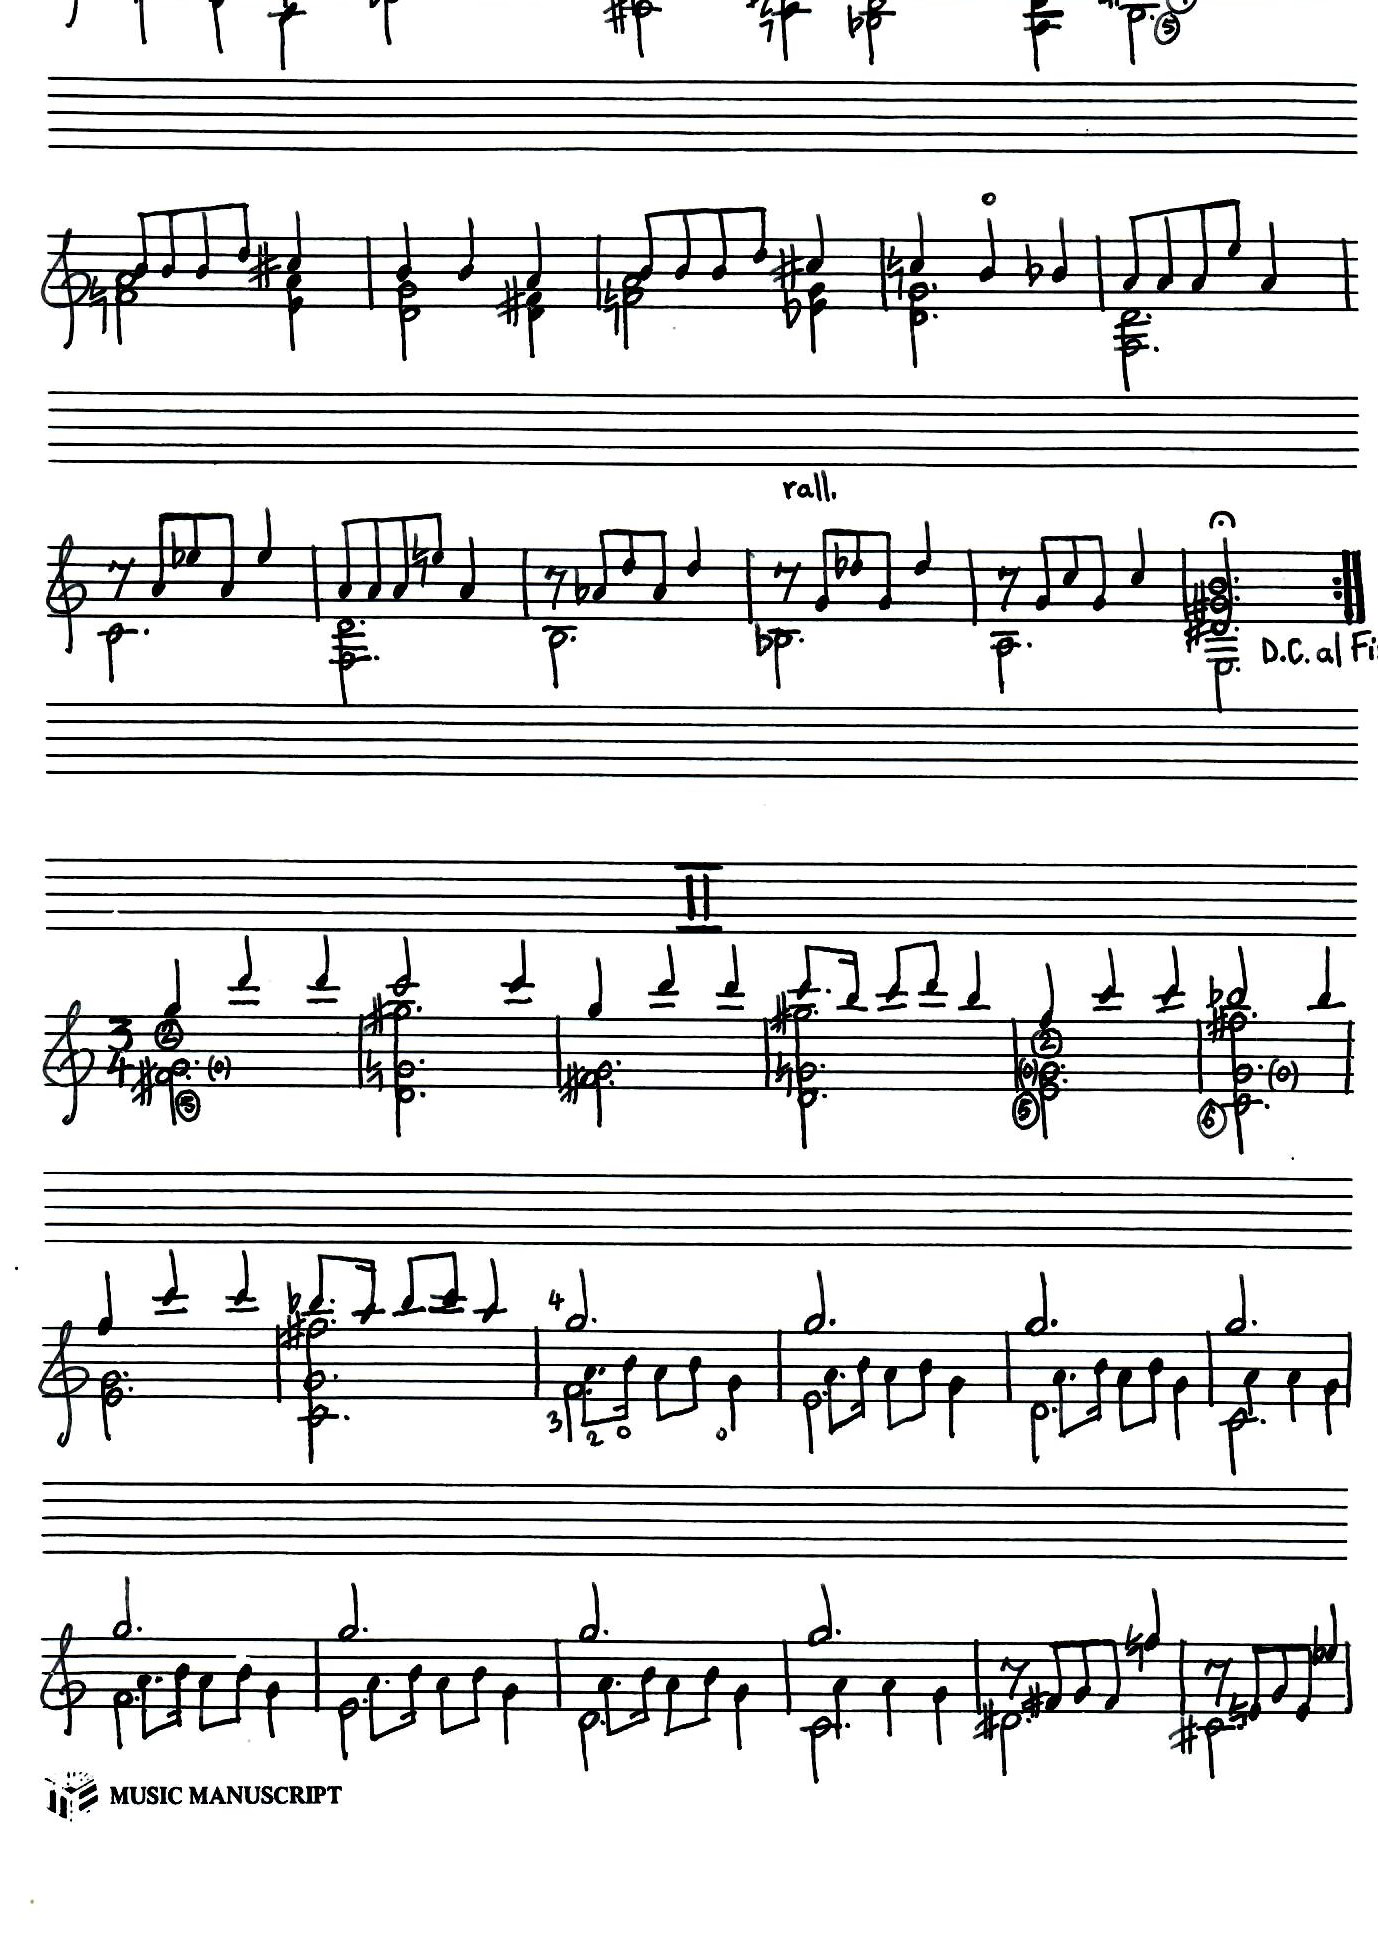3-4-Time: (104, 1013, 136, 1093)
Barline: (304, 541, 327, 626), (1089, 231, 1110, 316), (362, 233, 383, 315), (960, 544, 981, 625), (516, 546, 535, 625), (773, 1322, 790, 1407), (588, 231, 605, 315), (1338, 231, 1356, 315), (350, 1011, 368, 1095), (309, 1632, 325, 1718), (778, 1633, 795, 1718), (743, 543, 759, 626), (1341, 1016, 1357, 1099), (1204, 1325, 1220, 1408), (529, 1322, 546, 1404), (1001, 1328, 1017, 1407), (550, 1636, 567, 1715), (761, 1011, 775, 1098), (268, 1322, 283, 1405), (969, 1633, 984, 1717), (1342, 1328, 1357, 1410), (550, 1013, 565, 1090), (1177, 1636, 1192, 1714), (1342, 1638, 1356, 1721), (877, 234, 890, 313), (1008, 1017, 1022, 1092), (1195, 1017, 1206, 1096)
Beam: (339, 504, 449, 535), (136, 195, 252, 222), (1126, 197, 1245, 222), (641, 200, 773, 221), (594, 515, 671, 543), (152, 501, 239, 527), (1035, 524, 1110, 552), (817, 524, 896, 547), (315, 1247, 374, 1275), (1054, 1410, 1105, 1441), (1048, 1633, 1117, 1656), (802, 938, 862, 964), (1247, 1636, 1314, 1659), (434, 1712, 485, 1741), (823, 1411, 872, 1439), (1116, 1408, 1162, 1436), (367, 1718, 418, 1744), (650, 1404, 708, 1424), (136, 1718, 183, 1744), (603, 1714, 652, 1738), (661, 1718, 711, 1741), (579, 1410, 632, 1430), (884, 1413, 932, 1435), (889, 935, 943, 955), (404, 1248, 458, 1266), (195, 1718, 242, 1735)
Chord: (1224, 938, 1266, 1159), (303, 1248, 339, 1465), (799, 1580, 837, 1784), (330, 521, 370, 707), (1224, 1272, 1256, 1475), (792, 941, 822, 1151), (1116, 213, 1148, 395), (1206, 535, 1239, 714), (573, 1577, 603, 1773), (160, 958, 194, 1125), (389, 931, 416, 1141), (109, 1574, 139, 1751), (1025, 1268, 1051, 1465), (580, 955, 610, 1131), (1036, 952, 1063, 1144), (97, 1268, 125, 1445), (334, 1578, 359, 1762), (564, 1257, 588, 1444), (802, 1265, 825, 1456), (392, 219, 421, 365), (905, 209, 929, 371), (804, 213, 831, 356), (285, 204, 309, 355), (523, 219, 544, 362), (623, 266, 644, 351), (115, 268, 134, 351)
Dot: (1257, 1410, 1272, 1430), (139, 622, 154, 643), (342, 1410, 358, 1427), (931, 273, 946, 292), (134, 1618, 148, 1639), (597, 1362, 611, 1380), (614, 1669, 626, 1691), (419, 1083, 432, 1102), (828, 1313, 840, 1333), (1250, 1313, 1262, 1330), (1145, 306, 1157, 324), (841, 1715, 853, 1732), (1262, 1099, 1274, 1116), (1025, 635, 1036, 652), (601, 1620, 610, 1641), (614, 1052, 623, 1072), (371, 647, 382, 665), (1248, 1008, 1262, 1022), (1068, 1371, 1080, 1386), (154, 1671, 163, 1690), (1233, 591, 1244, 607), (328, 1313, 342, 1325), (819, 1387, 831, 1401), (359, 1621, 373, 1633), (133, 1690, 142, 1708), (811, 1005, 823, 1019), (819, 1058, 828, 1075), (822, 1084, 831, 1102), (383, 1674, 394, 1688), (795, 632, 805, 647), (932, 306, 940, 327), (122, 1362, 131, 1378), (591, 1311, 600, 1328), (359, 1691, 368, 1708), (192, 1053, 201, 1069), (1060, 1058, 1069, 1074), (183, 1071, 195, 1083), (1232, 620, 1244, 632), (1254, 1061, 1265, 1074), (607, 1075, 616, 1090), (597, 1715, 607, 1727), (1060, 1077, 1072, 1087), (1154, 337, 1160, 358), (1051, 1314, 1059, 1330), (416, 1049, 424, 1065), (1233, 573, 1241, 589), (825, 983, 834, 996), (127, 1384, 134, 1399), (330, 1296, 344, 1304), (416, 1001, 424, 1016), (358, 612, 365, 626), (570, 631, 576, 647), (334, 1371, 342, 1383), (840, 1369, 847, 1381), (1051, 1404, 1059, 1416), (837, 1626, 843, 1641), (1235, 662, 1241, 676), (586, 1389, 594, 1398)
Eighth-Note: (875, 937, 908, 1014), (353, 1254, 386, 1329), (330, 515, 356, 601), (837, 944, 866, 1017), (389, 515, 413, 606), (432, 1250, 464, 1319), (148, 498, 167, 601), (923, 935, 948, 1011), (1154, 203, 1175, 294), (364, 516, 385, 607), (1294, 1641, 1317, 1724), (1071, 1633, 1095, 1708), (708, 206, 729, 286), (1192, 201, 1209, 295), (1104, 1635, 1124, 1715), (403, 1660, 427, 1730), (652, 527, 673, 604), (1092, 1354, 1113, 1432), (1045, 1635, 1065, 1718), (1090, 530, 1110, 612), (1144, 1354, 1165, 1429), (674, 204, 693, 283), (661, 1668, 682, 1741), (591, 521, 608, 606), (1250, 1641, 1268, 1726), (222, 509, 239, 601), (1035, 534, 1054, 610), (617, 1351, 638, 1421), (1124, 207, 1141, 295), (814, 528, 831, 616), (233, 1662, 254, 1730), (1271, 1641, 1292, 1708), (597, 1672, 616, 1744), (432, 1672, 453, 1738), (398, 1257, 421, 1319), (640, 207, 658, 283), (853, 1351, 872, 1421), (161, 209, 180, 277), (185, 506, 204, 574), (823, 1359, 840, 1439), (637, 1665, 658, 1727), (133, 210, 151, 280), (1227, 191, 1245, 261), (916, 1353, 934, 1421), (136, 1672, 154, 1741), (195, 201, 210, 283), (468, 1665, 488, 1727), (880, 527, 893, 615), (1117, 1365, 1133, 1436), (236, 198, 252, 268), (881, 1363, 898, 1433), (750, 203, 768, 267), (688, 1351, 705, 1416), (173, 1660, 189, 1729), (197, 1662, 212, 1736), (1063, 524, 1080, 591), (702, 1665, 720, 1726), (365, 1672, 380, 1744), (1053, 1360, 1066, 1439), (582, 1360, 597, 1430), (431, 507, 447, 568), (653, 1363, 668, 1426), (622, 522, 638, 579)
Eighth-Rest: (104, 552, 139, 607), (773, 553, 802, 604), (995, 562, 1022, 613), (541, 562, 568, 612)
Flat: (780, 285, 804, 333), (1025, 242, 1045, 292), (755, 619, 774, 658), (285, 1278, 304, 1316), (831, 541, 849, 579), (573, 568, 591, 606), (169, 530, 185, 568), (1312, 1623, 1324, 1666)
G-Clef: (42, 999, 95, 1129), (39, 219, 89, 354), (39, 1319, 89, 1448), (40, 1621, 92, 1739), (45, 532, 91, 656)
Half-Note: (94, 615, 139, 683), (995, 1705, 1029, 1779), (1198, 1714, 1235, 1781), (984, 626, 1022, 694), (543, 620, 577, 691), (771, 620, 799, 691)
Natural: (881, 243, 911, 301), (601, 274, 623, 336), (410, 532, 431, 592), (88, 277, 110, 333), (1123, 1624, 1147, 1674), (773, 1052, 795, 1099), (1227, 1693, 1251, 1738), (365, 1052, 386, 1090)
Quarter-Note: (1306, 943, 1347, 1017), (154, 1245, 191, 1322), (222, 1245, 259, 1322), (306, 934, 342, 1008), (471, 1254, 509, 1325), (1153, 943, 1187, 1019), (647, 943, 683, 1011), (227, 934, 259, 1008), (503, 937, 535, 1008), (1092, 946, 1124, 1016), (959, 946, 992, 1014), (717, 941, 747, 1014), (1259, 221, 1283, 297), (455, 210, 479, 285), (978, 213, 1002, 286), (731, 1682, 755, 1754), (875, 1675, 901, 1741), (1050, 216, 1072, 286), (946, 1374, 969, 1439), (458, 534, 480, 603), (1171, 1372, 1192, 1445), (1145, 1583, 1166, 1656), (913, 516, 937, 579), (1130, 519, 1151, 589), (726, 1371, 749, 1433), (1283, 1365, 1305, 1427), (501, 1680, 522, 1747), (834, 1672, 855, 1738), (931, 1682, 951, 1748), (1324, 1600, 1344, 1668), (1321, 1374, 1341, 1438), (261, 1677, 280, 1741), (257, 509, 277, 565), (685, 521, 704, 580), (1245, 1360, 1265, 1418)
Repeat-Measure: (1330, 541, 1368, 626)
Sharp: (249, 242, 280, 297), (497, 274, 525, 330), (773, 245, 804, 292), (556, 1063, 586, 1108), (1169, 1712, 1198, 1756), (276, 1314, 309, 1351), (133, 1058, 157, 1108), (364, 990, 386, 1040), (770, 992, 792, 1040), (1186, 582, 1209, 625), (1184, 619, 1211, 656), (975, 1700, 998, 1745), (1023, 1684, 1048, 1721), (1206, 1005, 1229, 1044)
